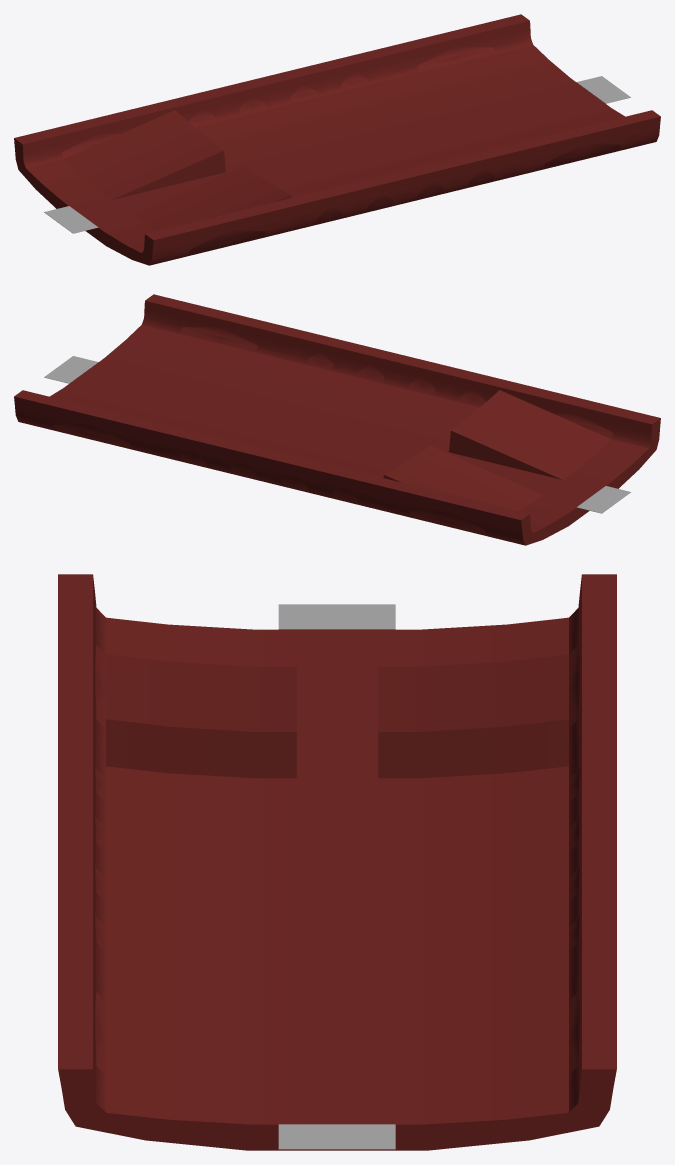
The model's file is StraightRamp3.fbx.
3 renders of one model, top to bottom at view 1: azimuth 30°, elevation 25°; view 2: azimuth 150°, elevation 25°; view 3: azimuth 270°, elevation 25°, orthographic. The views are drawn at different scales.
Parts seen in each view (by area): view 1: pasted__pPipe3, pasted__pCube2, pasted__pCube3; view 2: pasted__pPipe3, pasted__pCube3, pasted__pCube2; view 3: pasted__pPipe3, pasted__pCube3, pasted__pCube2.
Boxes of the visible parts, x1,y1,x2,y2 form: pasted__pPipe3: (14,14,660,265); pasted__pCube2: (576,76,630,103); pasted__pCube3: (44,206,98,233); pasted__pPipe3: (14,294,660,545); pasted__pCube3: (576,486,630,513); pasted__pCube2: (44,356,98,383); pasted__pPipe3: (58,574,616,1150); pasted__pCube3: (278,604,395,629); pasted__pCube2: (278,1124,395,1149).
Bounding box in the file's own units: 22 × 1.55 × 9.54.
